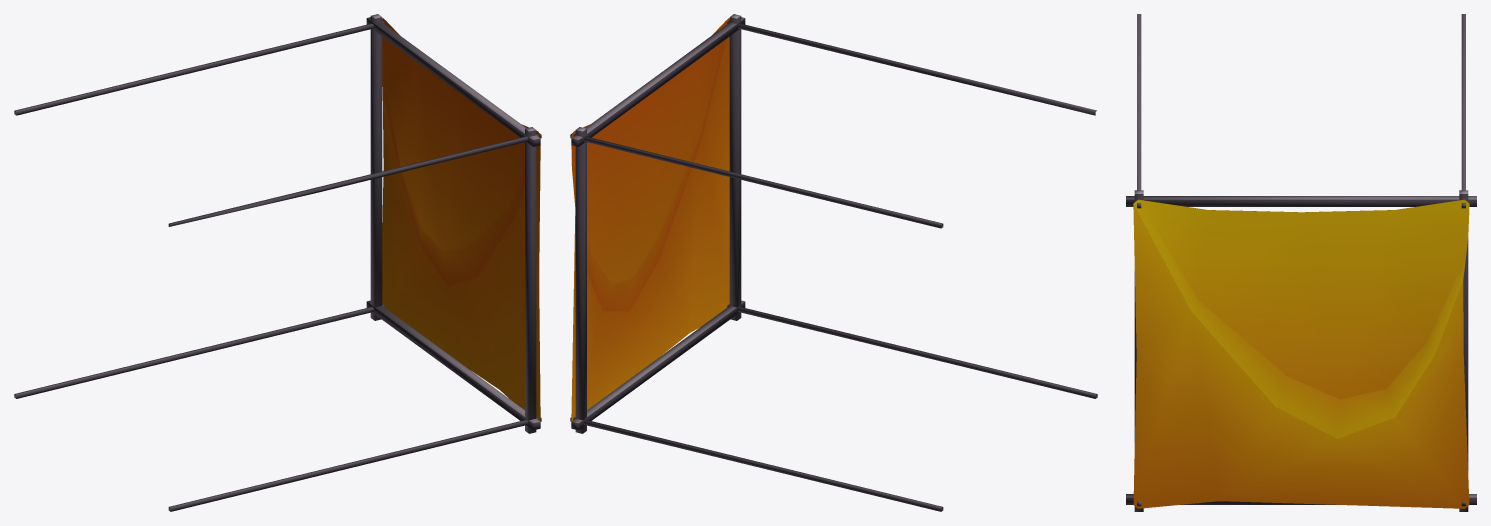
Rendered from Safety_Net_2B.fbx.
3 views of the same model, side by side, from view 1: azimuth 30°, elevation 25°; view 2: azimuth 150°, elevation 25°; view 3: azimuth 270°, elevation 25° (orthographic). The views are drawn at different scales.
Parts seen in each view (by area): view 1: Safety_Net_2B; view 2: Safety_Net_2B; view 3: Safety_Net_2B.
Boxes of the visible parts, x1,y1,x2,y2 form: Safety_Net_2B: [14, 14, 541, 511]; Safety_Net_2B: [570, 14, 1097, 511]; Safety_Net_2B: [1126, 14, 1476, 511].
Bounding box in the file's own units: 516 × 400 × 400.
